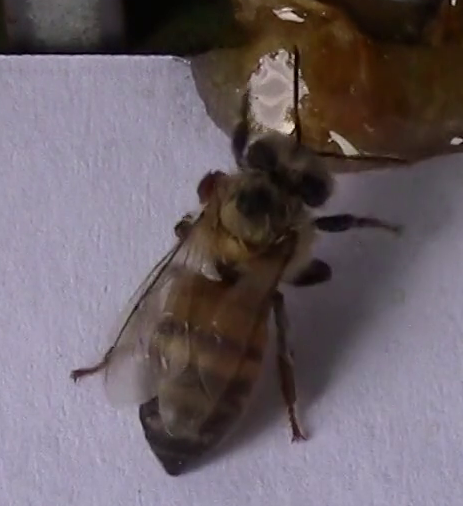Varroa destructor: (194, 168, 223, 206)
